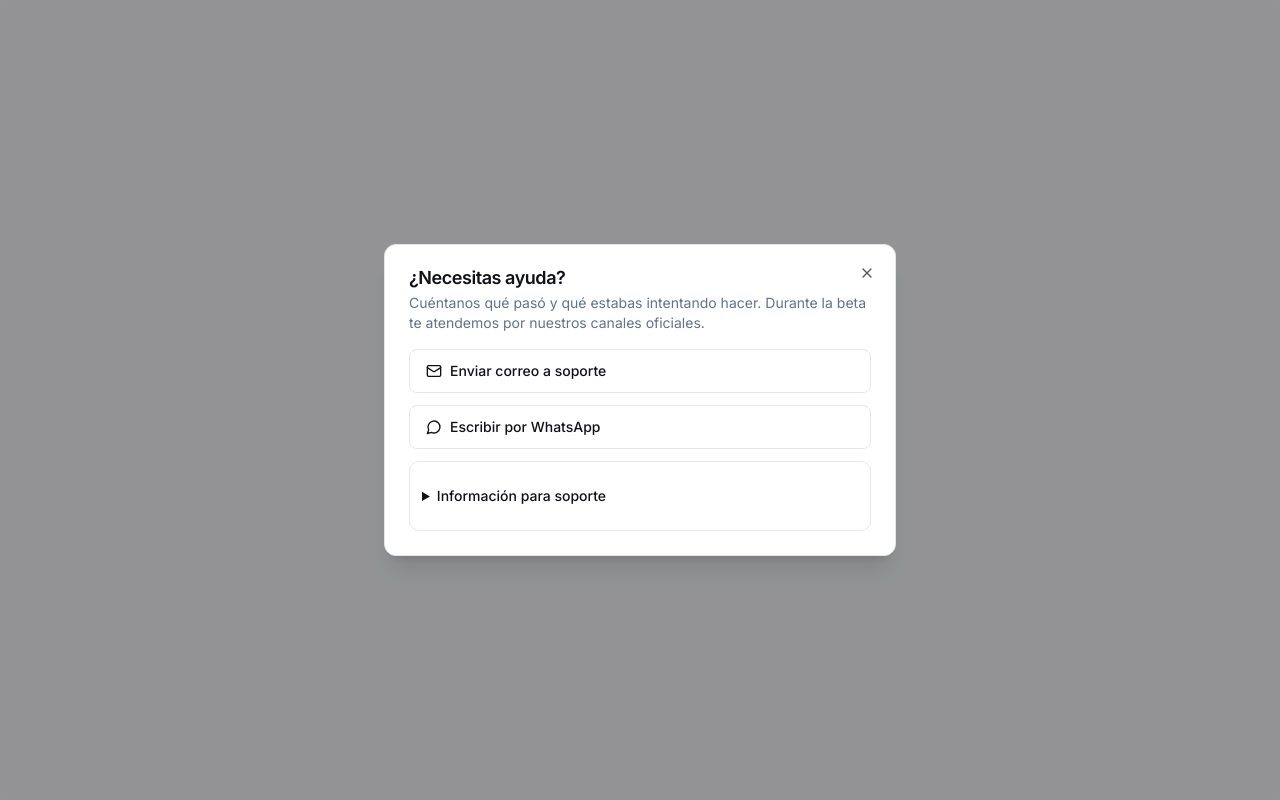
Test: SupportDialog › copies the safe reference on demand
Step 1. Click the heading "Información para soporte" → (521, 496), box [437, 487, 606, 504]
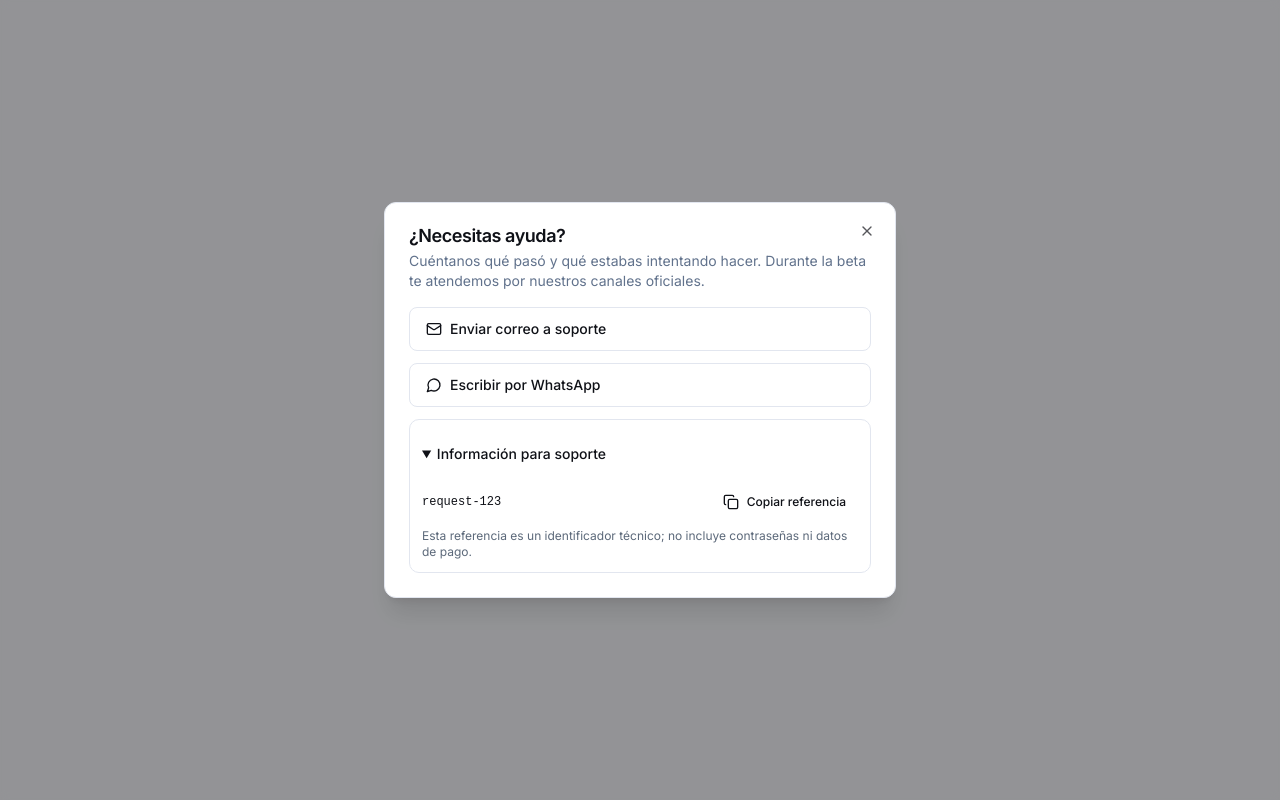
Step 2. Click the button "Copiar referencia" → (784, 502), box [711, 484, 858, 520]
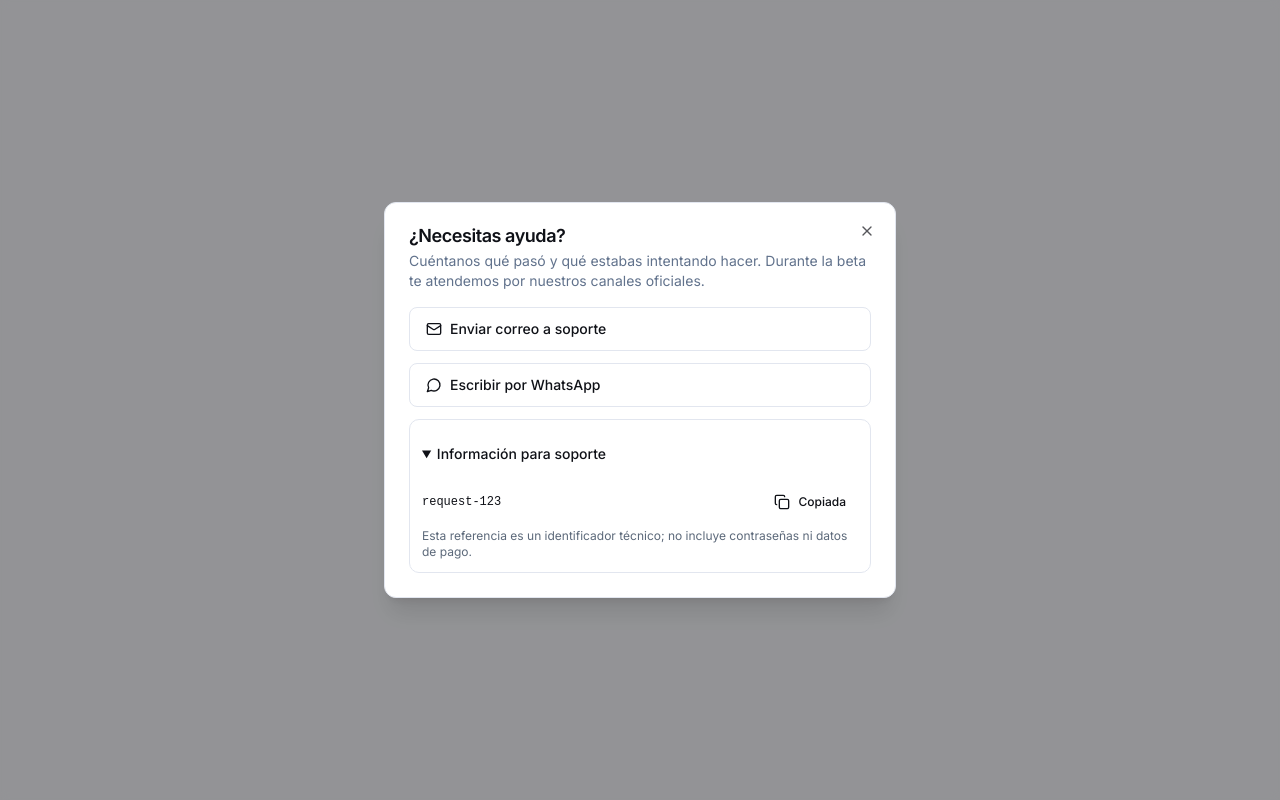
Check: the button "Copiada" is shown, box [762, 484, 858, 520]
